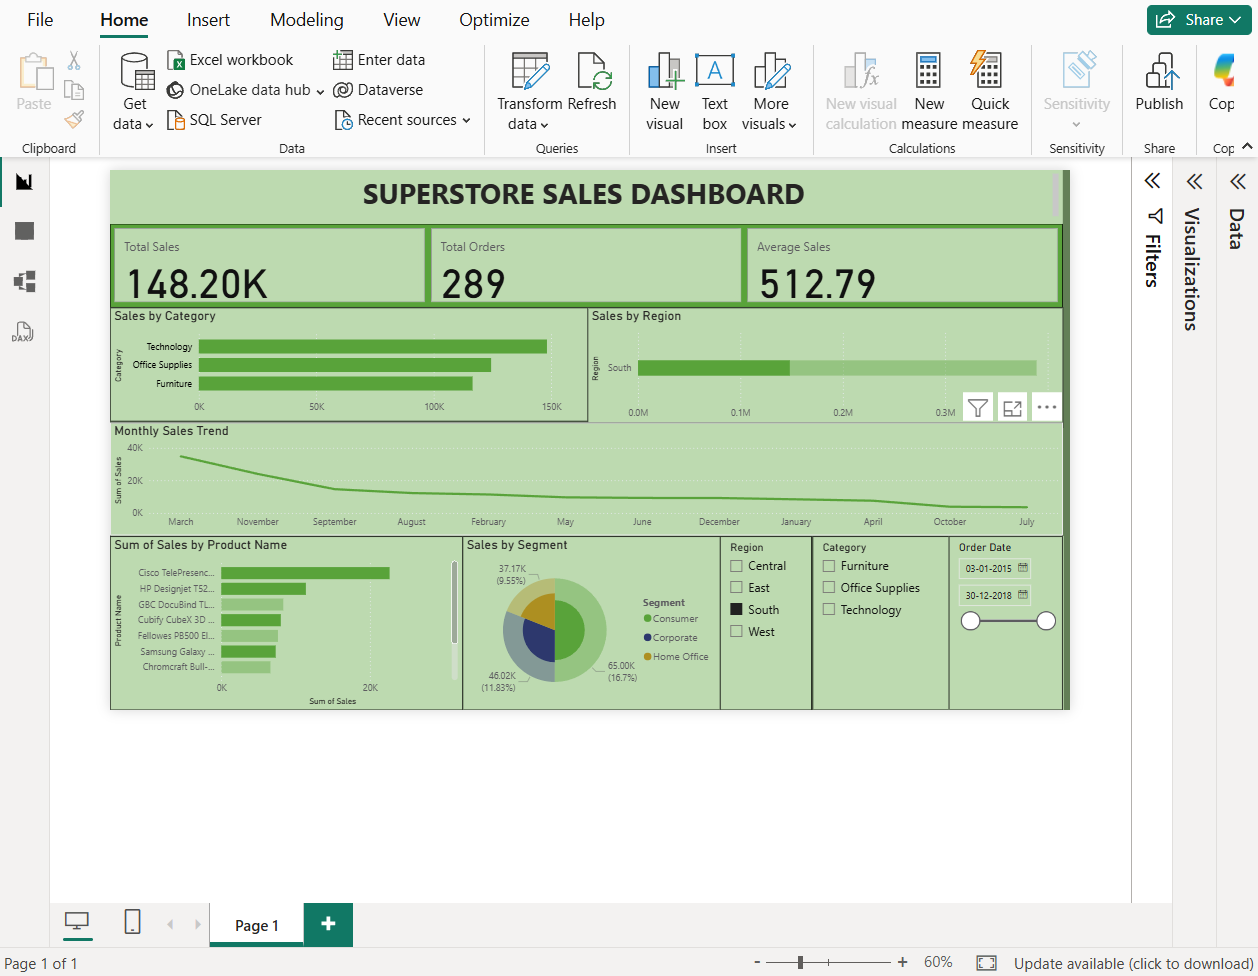

The page's visual inventory and layout, read from the dashboard file:
{"tool":"powerbi","page":{"name":"Page 1","canvas":[1280,720],"ordinal":0},"visuals":[{"type":"cardVisual","fields":{"Data":["archive.Total Sales","archive.Total Orders","archive.Average Sales"]},"box":[0,71.7,1270,111.7],"z":0},{"type":"clusteredBarChart","title":"Sales by Category","fields":{"Category":["archive.Category"],"Y":["Sum(archive.Sales)"]},"box":[0,184,640,152],"z":1000},{"type":"clusteredBarChart","title":"Sales by Region","fields":{"Category":["archive.Region"],"Y":["Sum(archive.Sales)"]},"box":[636,184,634,160],"z":2000},{"type":"lineChart","title":"Monthly Sales Trend","fields":{"Category":["archive.Month"],"Y":["Sum(archive.Sales)"]},"box":[0,336,1270,152],"z":2001},{"type":"clusteredBarChart","fields":{"Category":["archive.Product Name"],"Y":["Sum(archive.Sales)"]},"box":[0,488,470,232],"z":2002},{"type":"pieChart","title":"Sales by Segment","fields":{"Category":["archive.Segment"],"Y":["Sum(archive.Sales)"]},"box":[470,488,344,232],"z":2003},{"type":"slicer","fields":{"Values":["archive.Region"]},"box":[814,488,122,232],"z":2004},{"type":"slicer","fields":{"Values":["archive.Category"]},"box":[936,488,182,232],"z":2005},{"type":"slicer","fields":{"Values":["archive.Order Date"]},"box":[1118,488,152,232],"z":2006},{"type":"textbox","box":[0,0,1270,71.7],"z":2007}]}

Visuals, with their boxes on the page's 1280x720 design canvas (x1, y1, x2, y2). These are canvas units, not pixel positions in the 1258x976 screenshot, which may show the page scaled, cropped or inside an application window:
cardVisual - archive.Total Sales x archive.Total Orders: pyautogui.locateOnScreen(0, 72, 1270, 183)
"Sales by Category" clusteredBarChart: pyautogui.locateOnScreen(0, 184, 640, 336)
"Sales by Region" clusteredBarChart: pyautogui.locateOnScreen(636, 184, 1270, 344)
"Monthly Sales Trend" lineChart: pyautogui.locateOnScreen(0, 336, 1270, 488)
clusteredBarChart - archive.Product Name x Sum(archive.Sales): pyautogui.locateOnScreen(0, 488, 470, 720)
"Sales by Segment" pieChart: pyautogui.locateOnScreen(470, 488, 814, 720)
slicer - archive.Region: pyautogui.locateOnScreen(814, 488, 936, 720)
slicer - archive.Category: pyautogui.locateOnScreen(936, 488, 1118, 720)
slicer - archive.Order Date: pyautogui.locateOnScreen(1118, 488, 1270, 720)
textbox: pyautogui.locateOnScreen(0, 0, 1270, 72)
